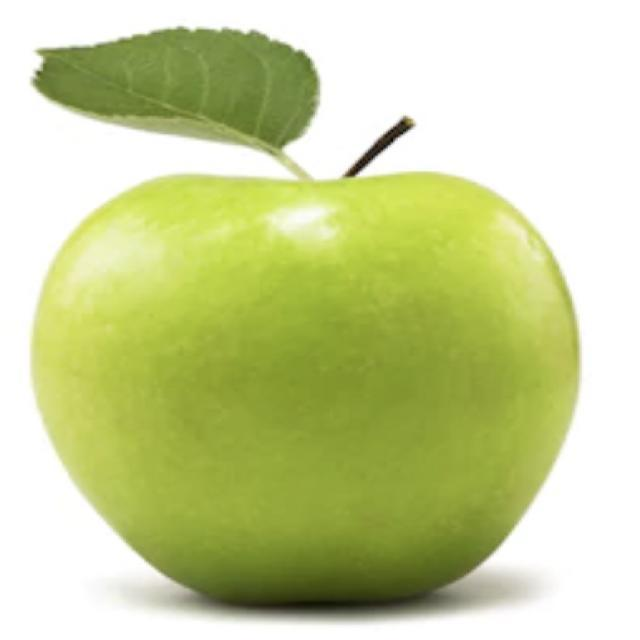Fresh Apple: (62, 160, 575, 605)
